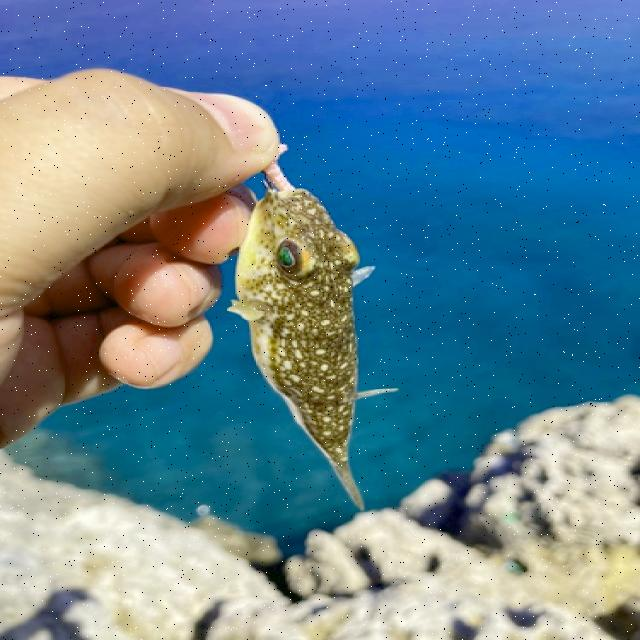Balik: (231, 181, 394, 508)
